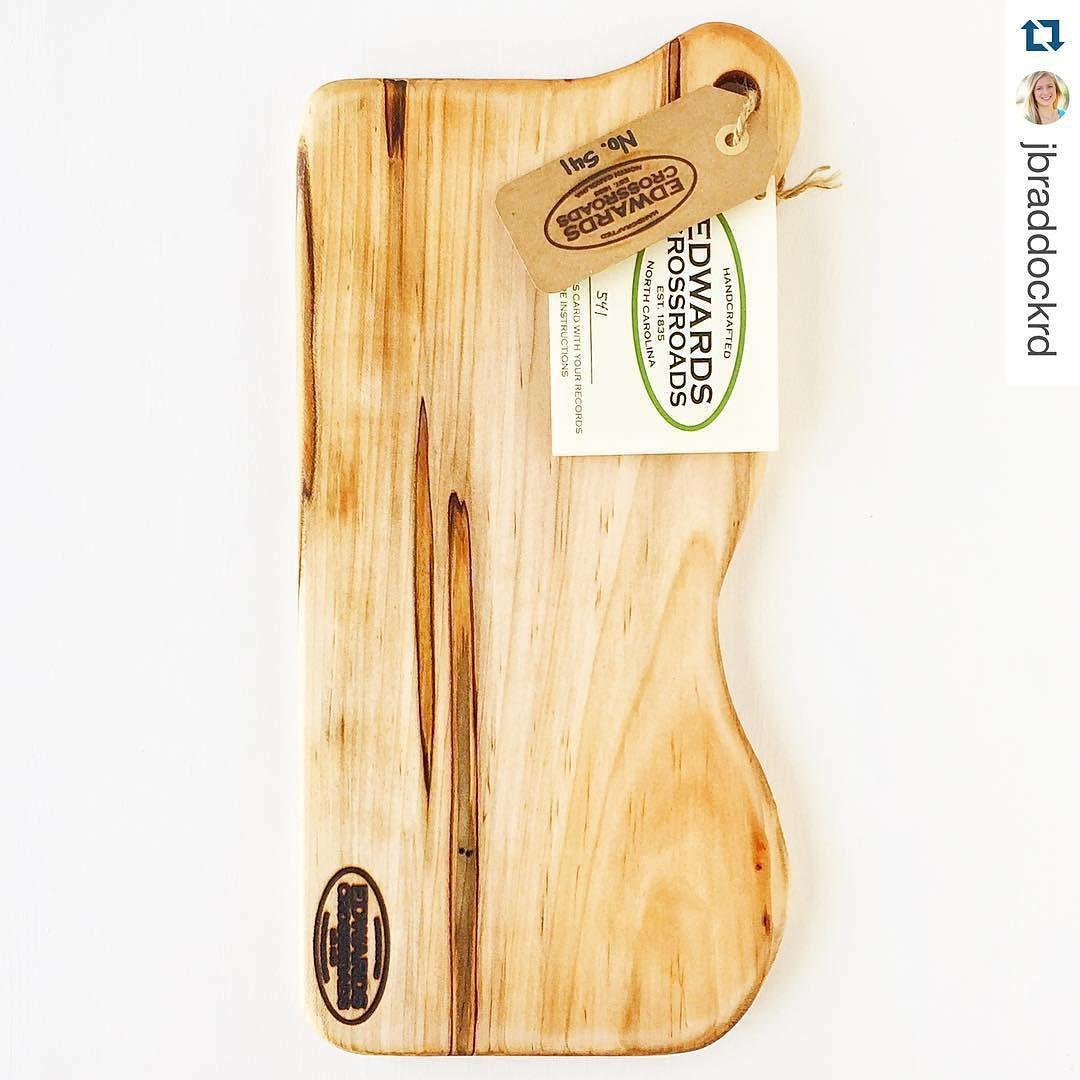gloved_hand: (233, 13, 825, 1059)
